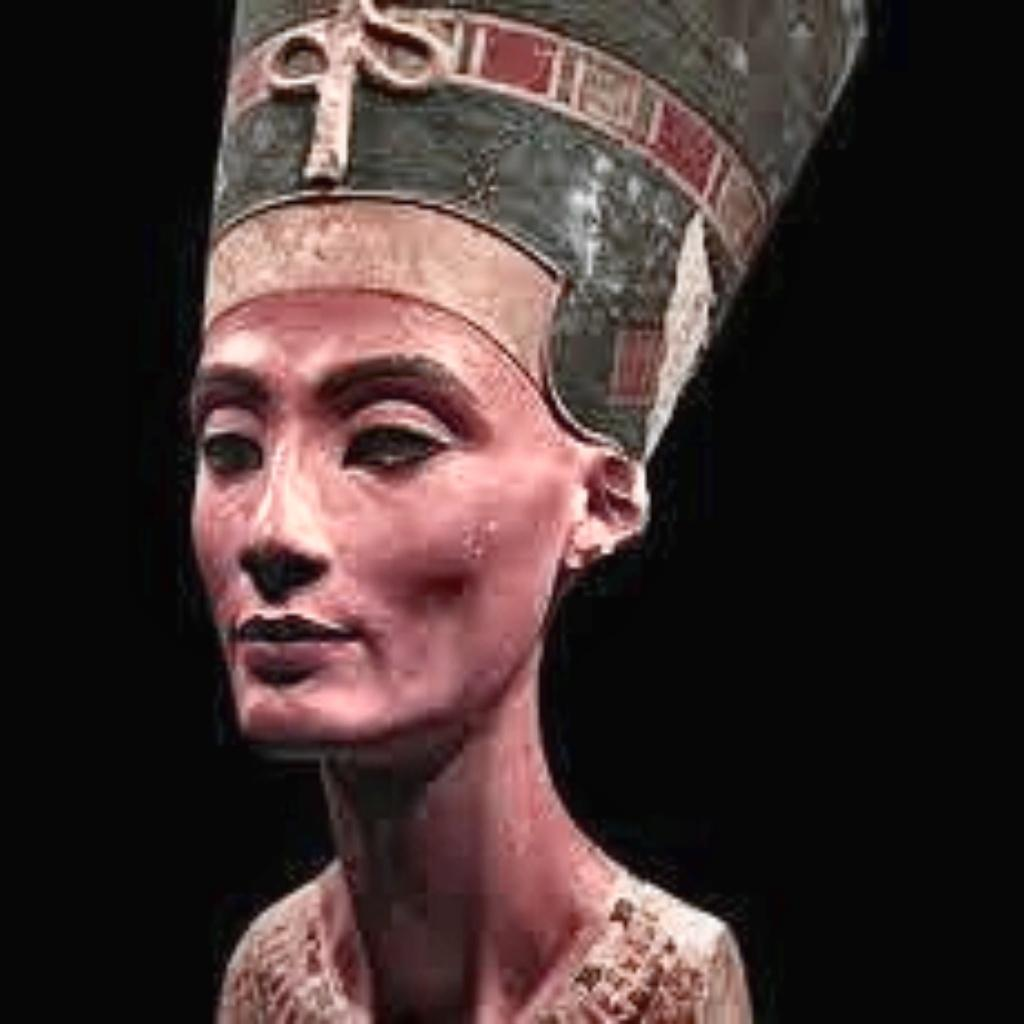Nefertiti: (190, 0, 872, 1024)
